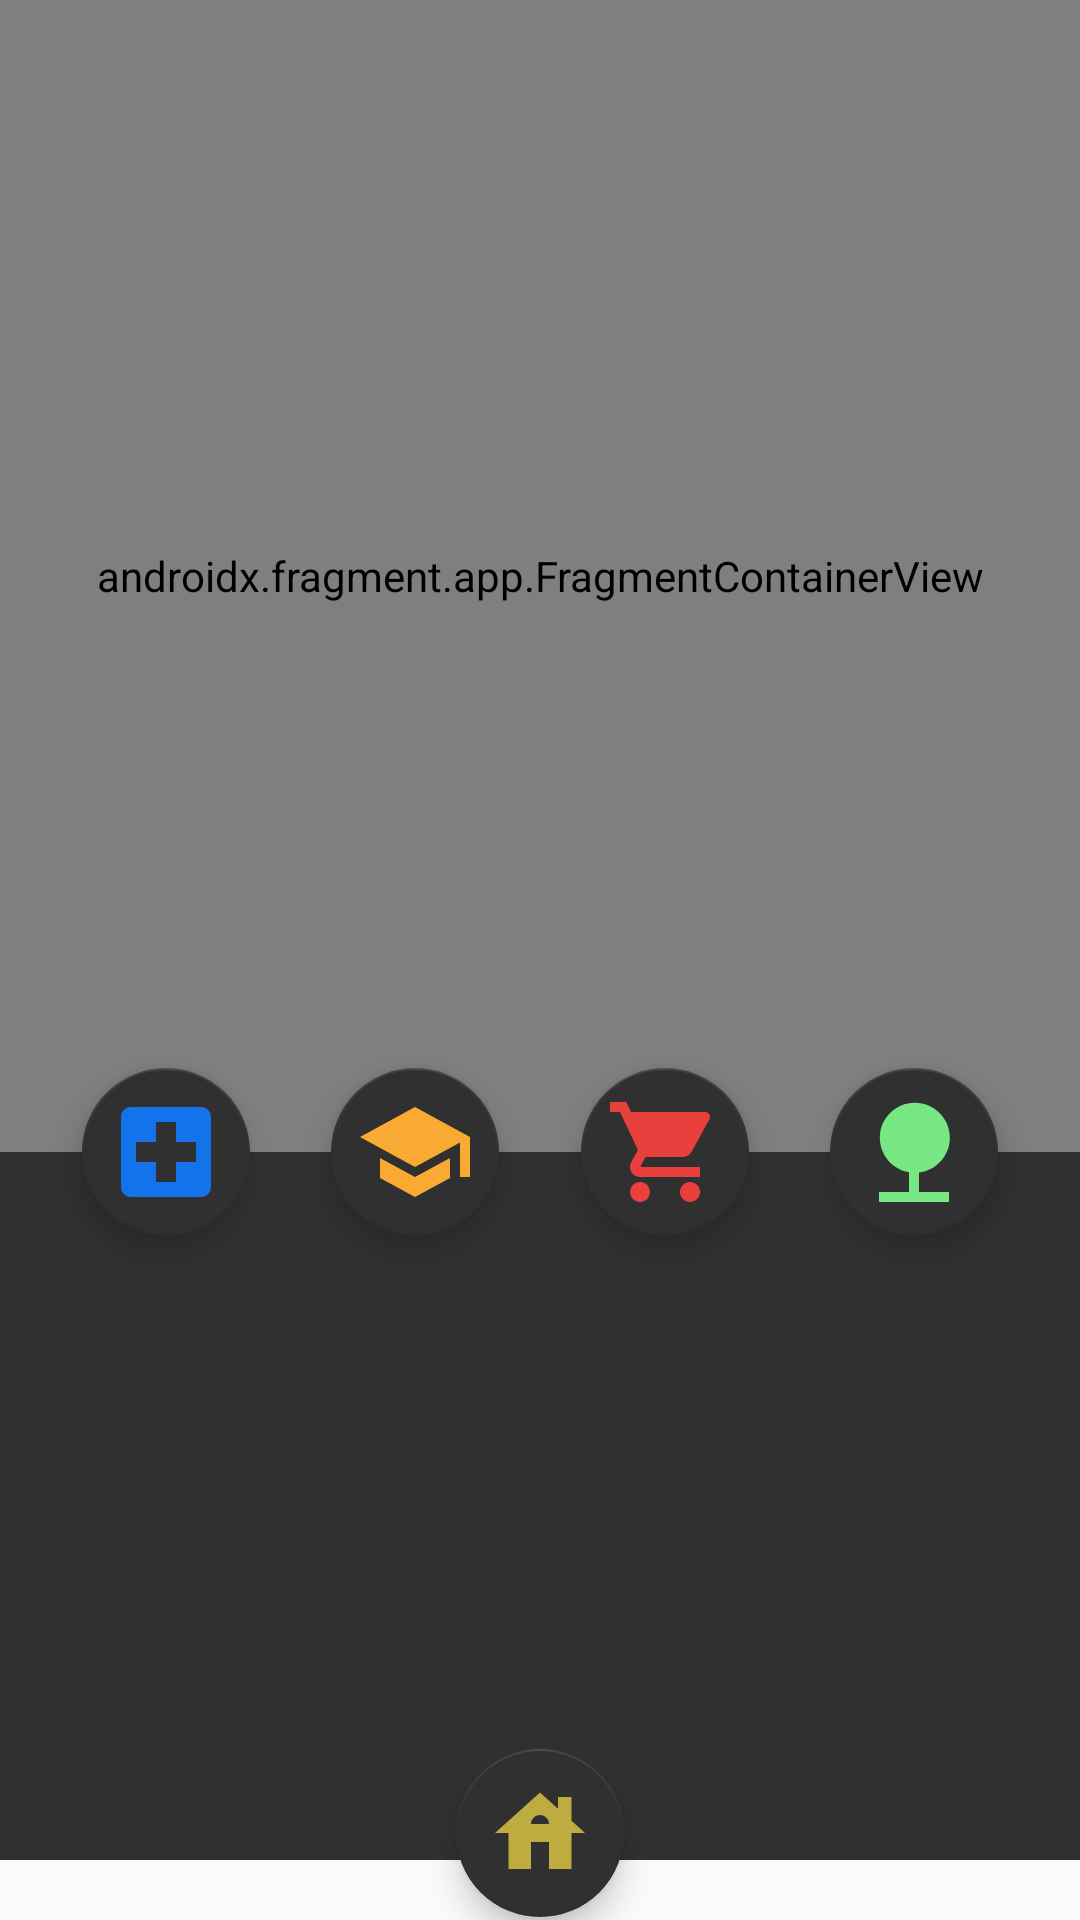

Point at icon controls on the screen. Image size 1080px×1920px, points as (x=x, y=y).
hospital: (x=166, y=1152)
house: (x=540, y=1809)
market: (x=665, y=1152)
park: (x=914, y=1152)
school: (x=415, y=1152)
